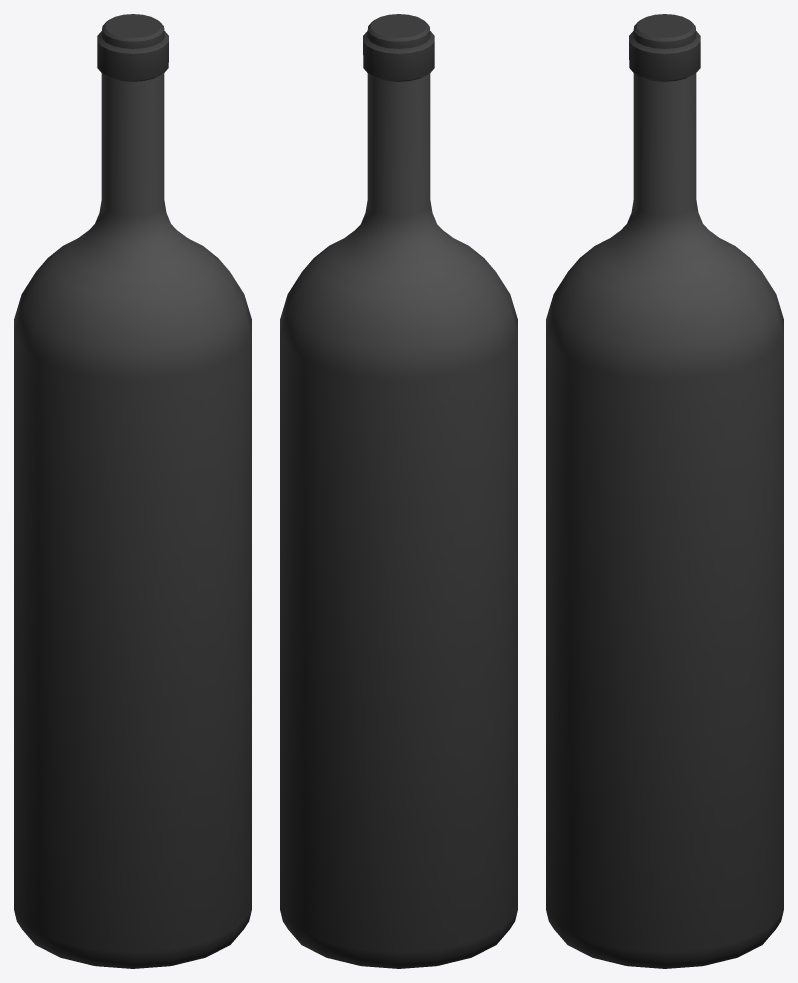
Rendered from bottle_01.fbx.
3 views of the same model, side by side, from view 1: azimuth 30°, elevation 25°; view 2: azimuth 150°, elevation 25°; view 3: azimuth 270°, elevation 25° (orthographic).
Visible parts, largest first — view 1: bottle_1; view 2: bottle_1; view 3: bottle_1.
Boxes of the visible parts, x1,y1,x2,y2 form: bottle_1: [14, 14, 251, 968]; bottle_1: [280, 14, 517, 968]; bottle_1: [546, 14, 783, 968].
Bounding box in the file's own units: 0.1012 × 0.4162 × 0.0996.
